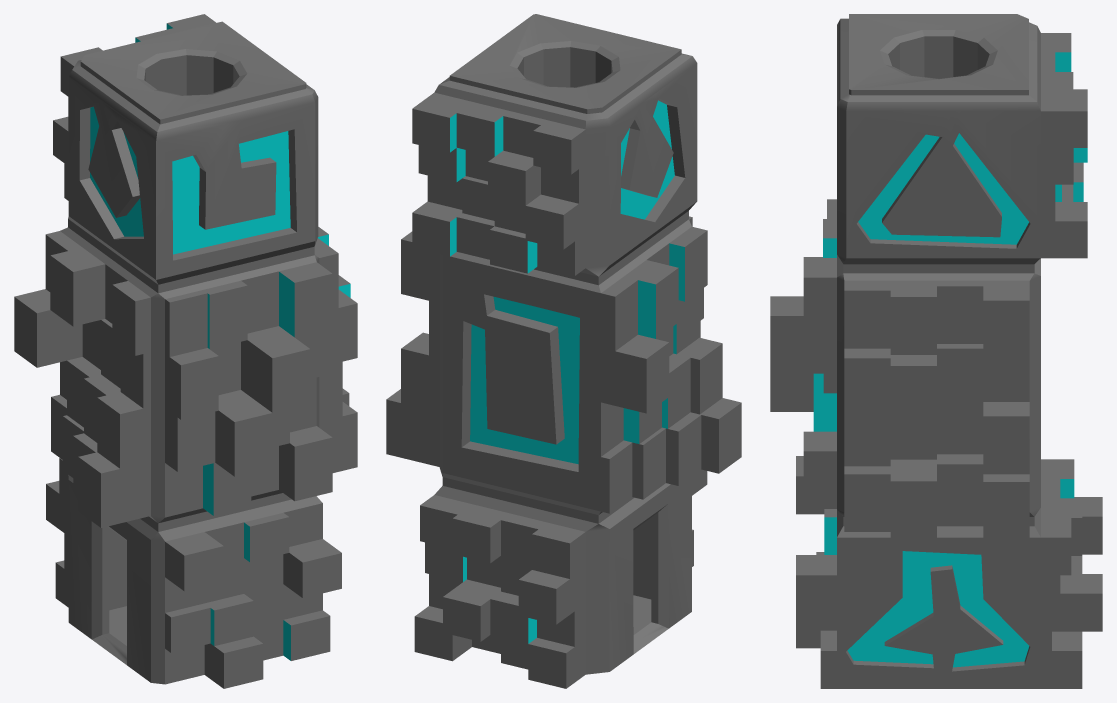
Rendered from Launch Tower.fbx.
3 views of the same model, side by side, from view 1: azimuth 30°, elevation 25°; view 2: azimuth 150°, elevation 25°; view 3: azimuth 270°, elevation 25° (orthographic). The views are drawn at different scales.
Visible parts, largest first — view 1: pCube2; view 2: pCube2; view 3: pCube2.
Part boxes in pixels (x1,y1,x2,y2): pCube2: (14,14,357,688); pCube2: (386,14,741,688); pCube2: (770,14,1102,688).
Bounding box in the file's own units: 4.7 × 9.77 × 4.74.
